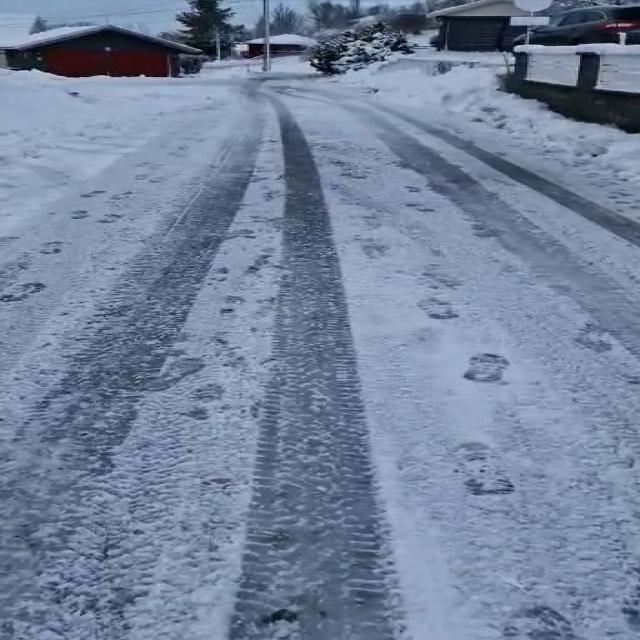path: (0, 73, 640, 640)
